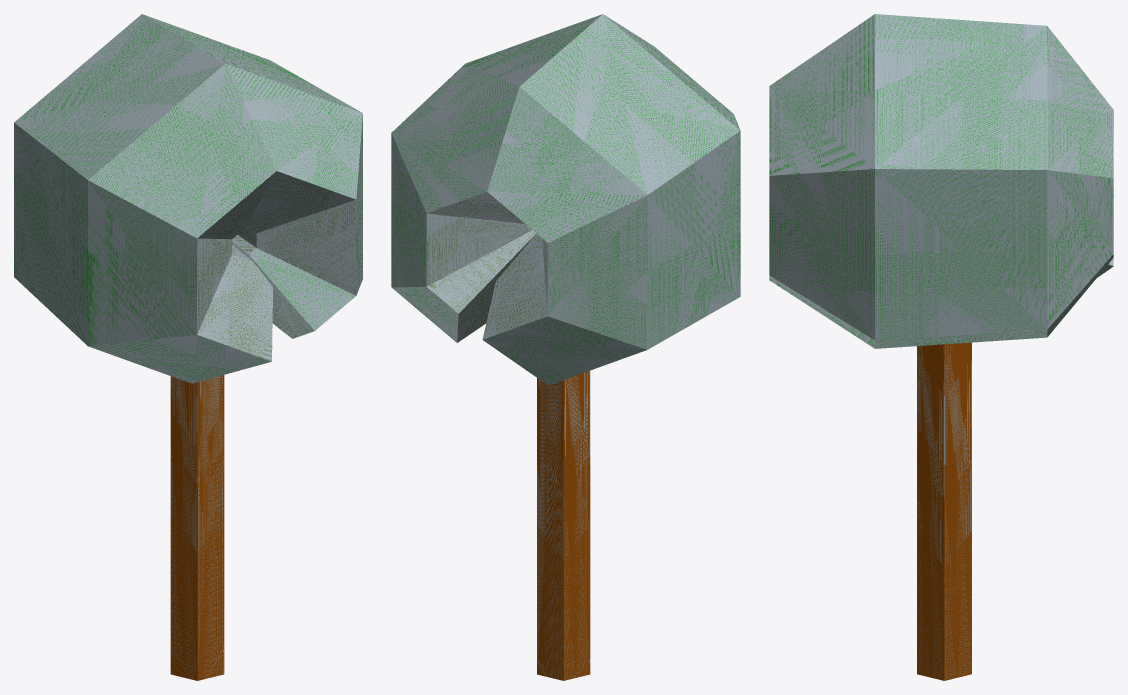
The model's file is helixTree.fbx.
3 views of the same model, side by side, from view 1: azimuth 30°, elevation 25°; view 2: azimuth 150°, elevation 25°; view 3: azimuth 270°, elevation 25° (orthographic). The views are drawn at different scales.
Visible parts, largest first — view 1: Model; view 2: Model; view 3: Model.
Boxes of the visible parts, <box> form: Model: <box>14,14,362,680</box>; Model: <box>391,14,740,680</box>; Model: <box>769,14,1113,680</box>.
Bounding box in the file's own units: 40.27 × 88.22 × 42.35.
